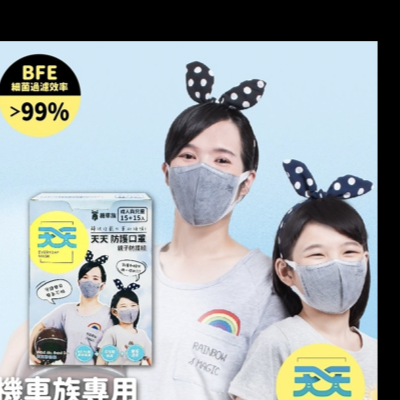with_mask: (167, 141, 244, 227), (294, 239, 368, 315)
